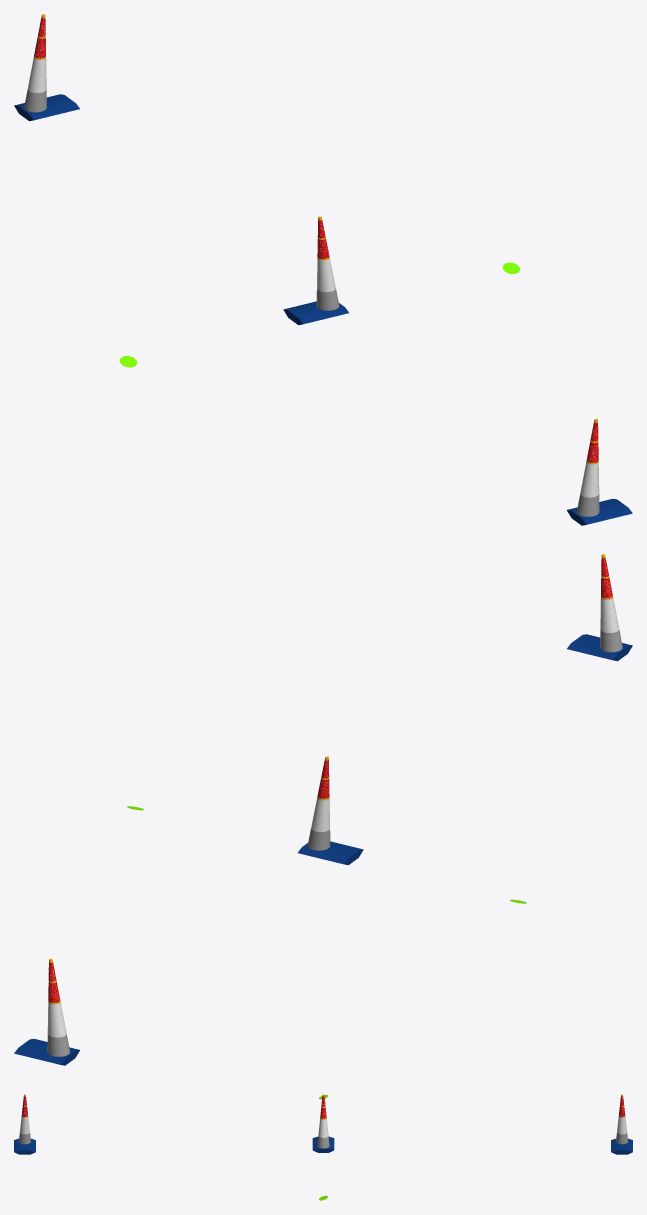
The model's file is Chicane.dae.
The picture shows the model from 3 angles, top to bottom: view 1: azimuth 30°, elevation 25°; view 2: azimuth 150°, elevation 25°; view 3: azimuth 270°, elevation 25°; orthographic projection. The views are drawn at different scales.
Visible parts, largest first — view 1: SingleGate (×3); view 2: SingleGate (×3); view 3: SingleGate (×3), Difference1.
Boxes of the visible parts, box(x1,y1,x2,y2) form: SingleGate (×3): box(14, 94, 632, 525); SingleGate (×3): box(14, 634, 632, 1065); SingleGate (×3): box(14, 1136, 632, 1154); Difference1: box(318, 1118, 328, 1137).
Bounding box in the file's own units: 4094 × 10203 × 986.
